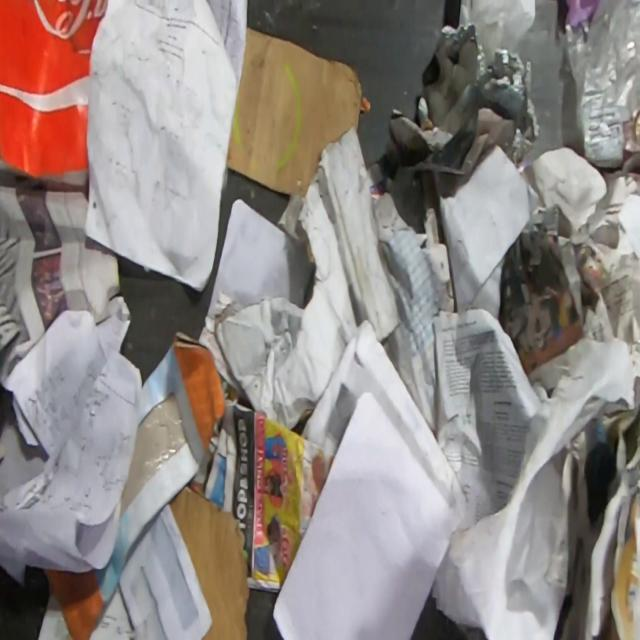cardboard: (203, 125, 402, 432), (41, 327, 225, 640), (382, 19, 541, 232), (226, 23, 364, 197), (168, 484, 251, 640), (414, 202, 457, 313)
soft_plastic: (556, 0, 640, 172), (458, 0, 537, 67)
